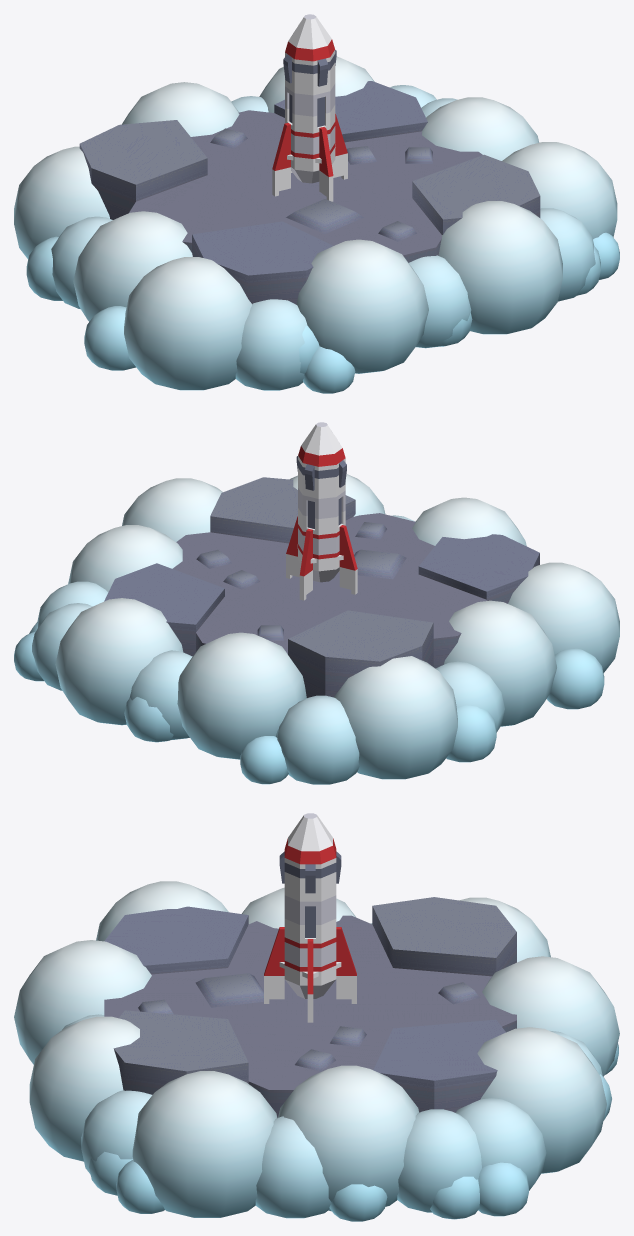
Rendered from island.glb.
The picture shows the model from 3 angles, top to bottom: view 1: azimuth 30°, elevation 25°; view 2: azimuth 150°, elevation 25°; view 3: azimuth 270°, elevation 25°; orthographic projection. The views are drawn at different scales.
Visible parts, largest first — view 1: Cloud_025, rocks, rocket_baseA2; view 2: Cloud_025, rocks, rocket_baseA2; view 3: Cloud_025, rocks, rocket_baseA2.
Boxes of the visible parts, bbox=[...] form: Cloud_025: bbox=[14, 56, 619, 393]; rocks: bbox=[79, 81, 540, 304]; rocket_baseA2: bbox=[272, 14, 347, 201]; Cloud_025: bbox=[14, 474, 619, 784]; rocks: bbox=[104, 477, 539, 697]; rocket_baseA2: bbox=[286, 422, 357, 600]; Cloud_025: bbox=[14, 881, 619, 1221]; rocks: bbox=[104, 897, 516, 1117]; rocket_baseA2: bbox=[264, 813, 356, 1022].
Size of the model in its own units: 25.09 by 12.44 by 23.5.
Materials: 6 (2 with a texture image).
